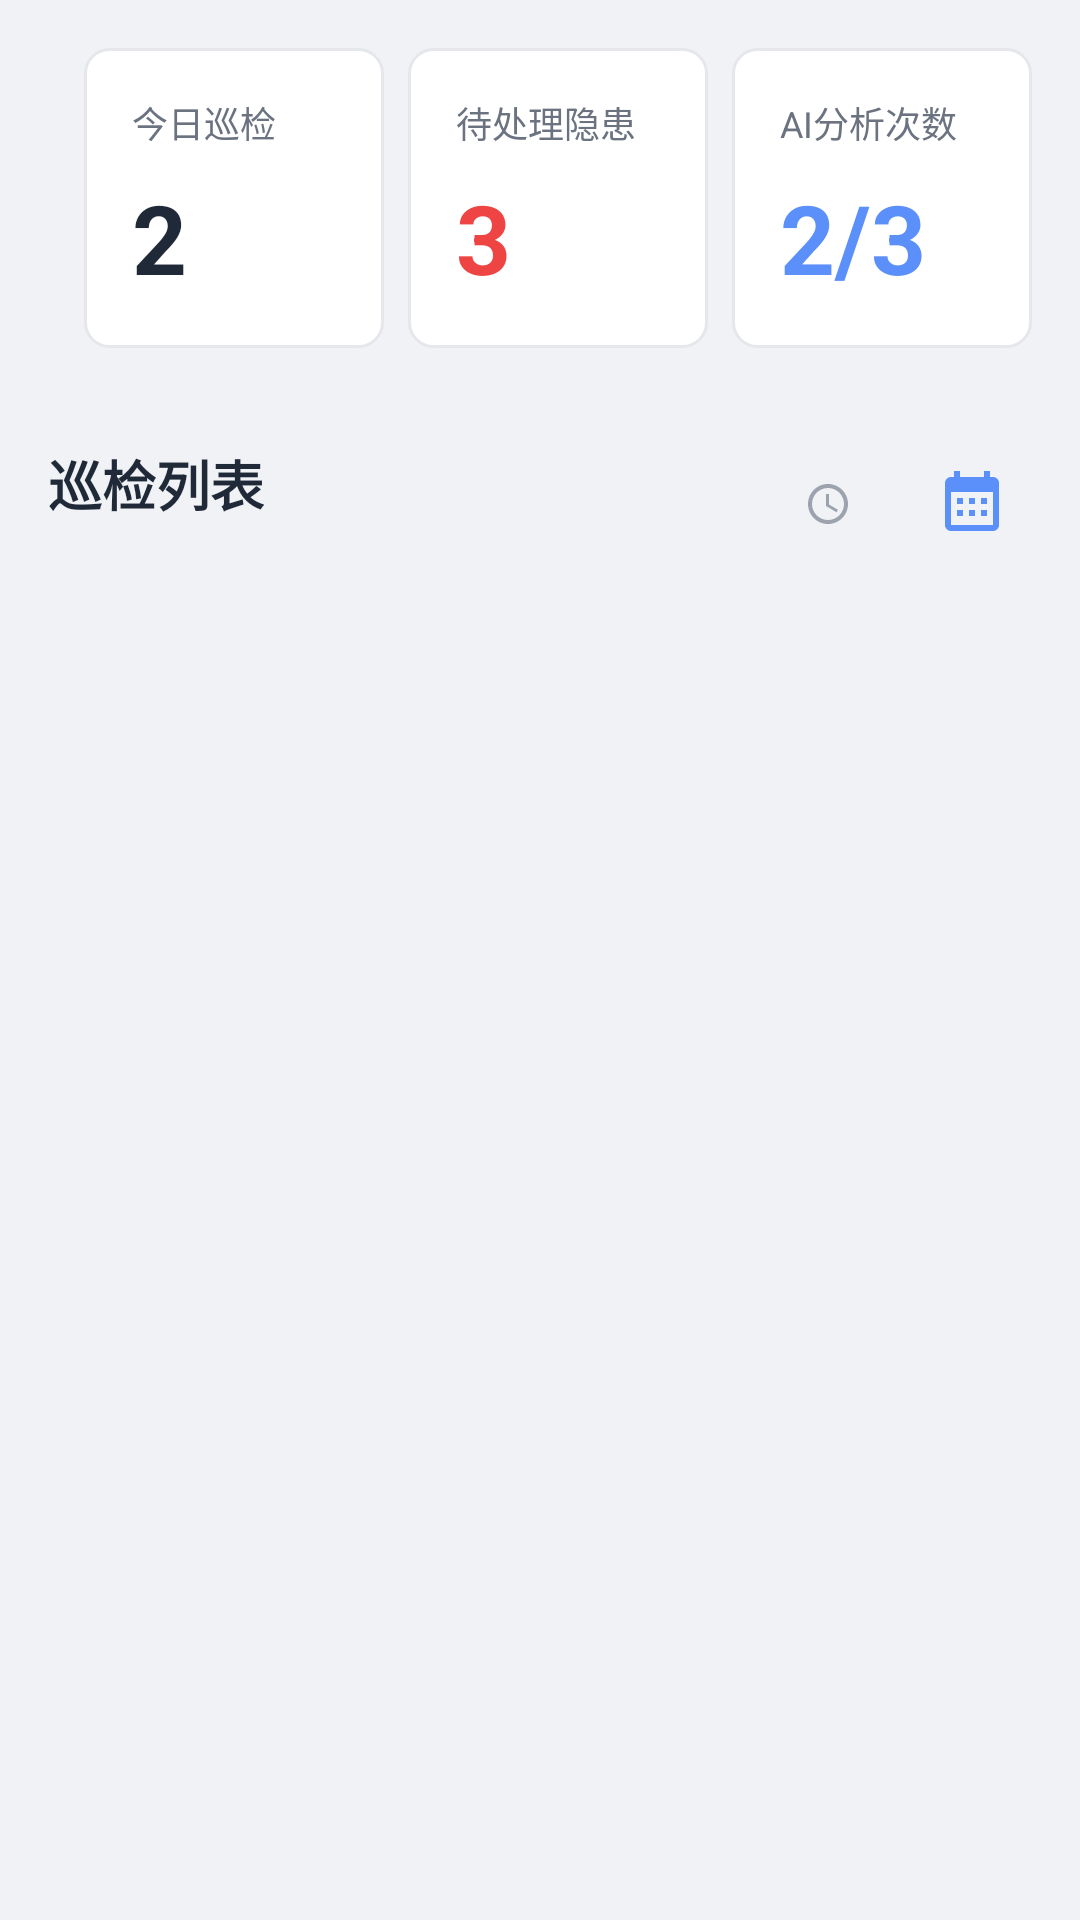

Icons on this 1080x1920 Android screen, each with the point to tap as point (x, y):
calendar: point (972, 501)
history: point (828, 504)
